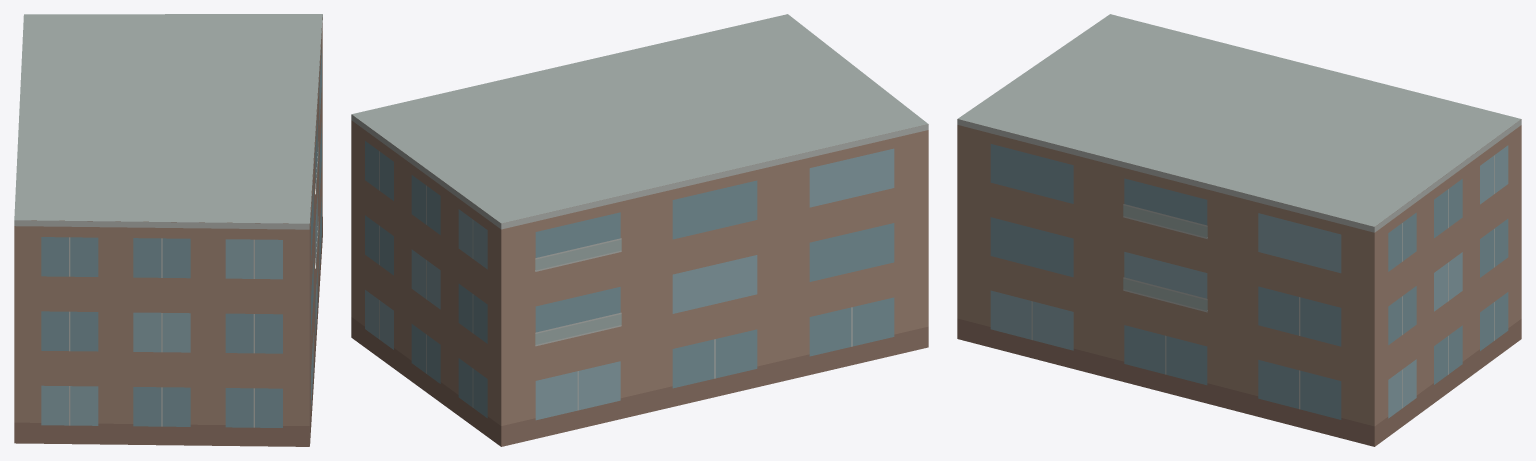
File: survey-upis-32689004.glb
The picture shows the model from 3 angles, left to right: view 1: azimuth 30°, elevation 25°; view 2: azimuth 150°, elevation 25°; view 3: azimuth 270°, elevation 25°; orthographic projection.
Parts seen in each view (by area): view 1: survey-upis-32689004.tmp; view 2: survey-upis-32689004.tmp; view 3: survey-upis-32689004.tmp.
Boxes of the visible parts, <box> form: survey-upis-32689004.tmp: <box>14,14,322,446</box>; survey-upis-32689004.tmp: <box>351,14,928,446</box>; survey-upis-32689004.tmp: <box>957,14,1521,446</box>.
Bounding box in the file's own units: 19 × 9.15 × 21.27.
